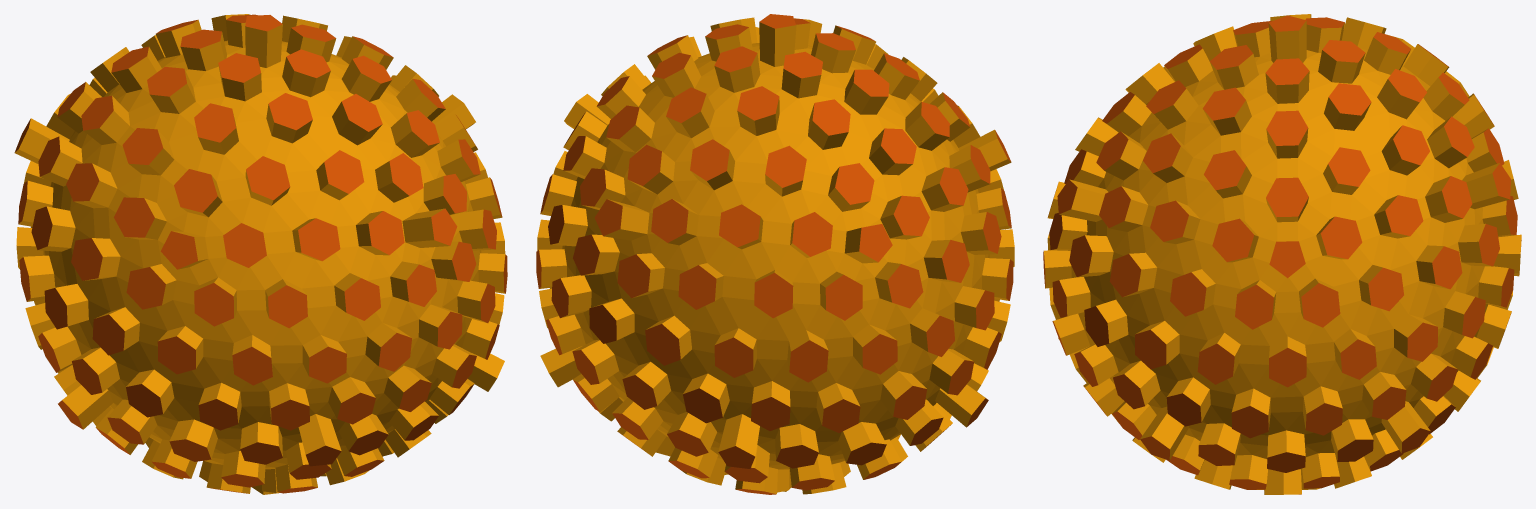
The model's file is bacteria3.fbx.
The picture shows the model from 3 angles, left to right: view 1: azimuth 30°, elevation 25°; view 2: azimuth 150°, elevation 25°; view 3: azimuth 270°, elevation 25°; orthographic projection.
Parts seen in each view (by area): view 1: Icosphere; view 2: Icosphere; view 3: Icosphere.
Part boxes in pixels (x1=…): Icosphere: x1=14, y1=14, x2=507, y2=494; Icosphere: x1=536, y1=14, x2=1014, y2=494; Icosphere: x1=1043, y1=14, x2=1521, y2=494.
Bounding box in the file's own units: 229 × 243 × 229.
